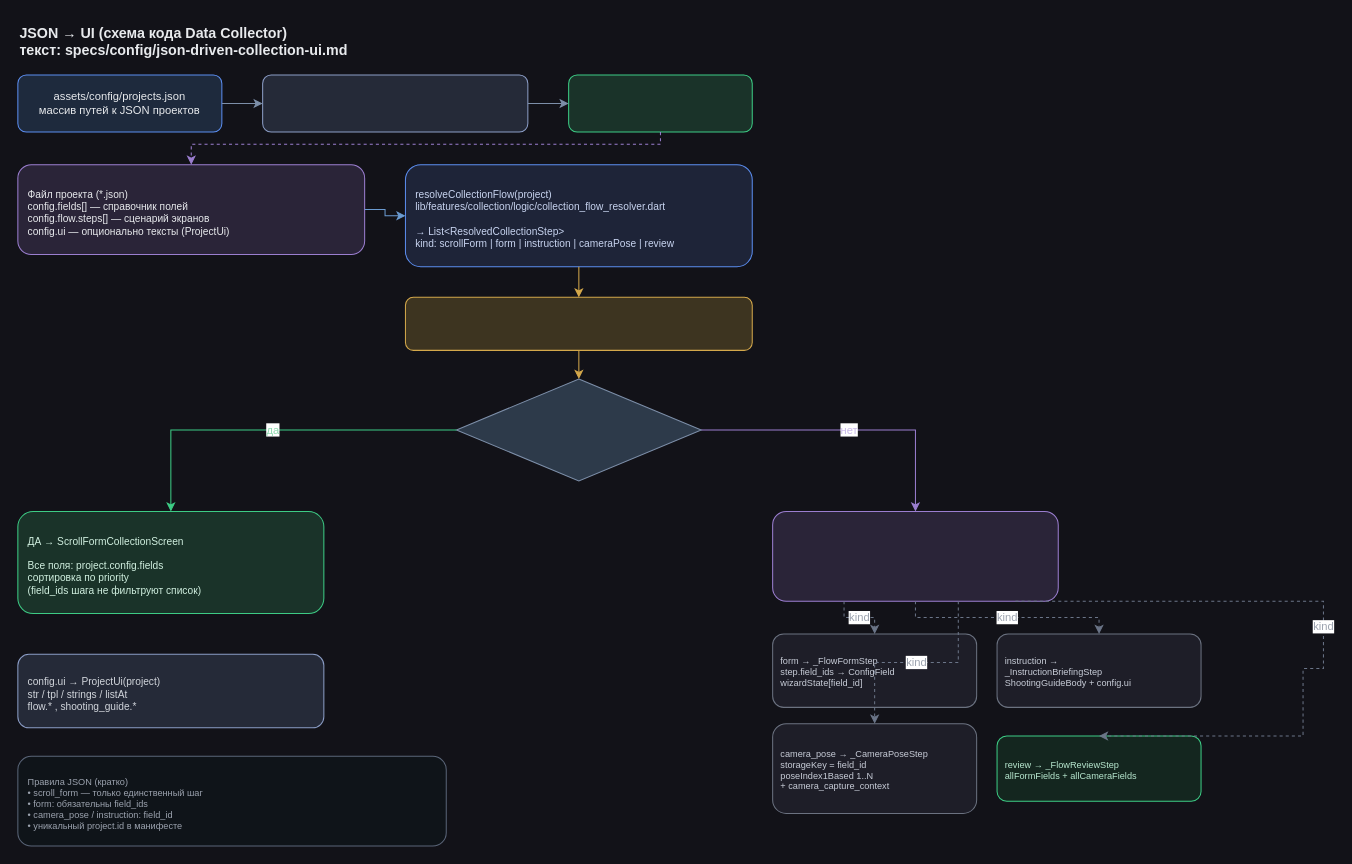
Image size: 1352x864. Some labels were removed from this diagram. The shapes that lost their labels are listed below. From the top down, each one's centre as x and y in pixels, then its label:
At pixel 395 103: "ProjectCatalog.loadAll() lib/features/projects/project_catalog.dart".
At pixel 660 103: "List<Project> уникальный project.id".
At pixel 578 323: "CollectionFlowScreen(projectId) lib/.../collection_flow_screen.dart".
At pixel 578 429: "isSingleScrollOnly ? (1 шаг && screen == scroll_form)".
At pixel 915 556: "НЕТ → _FlowStepShell _step → resolvedFlow.steps[i] _buildStep: switch(kind)".
